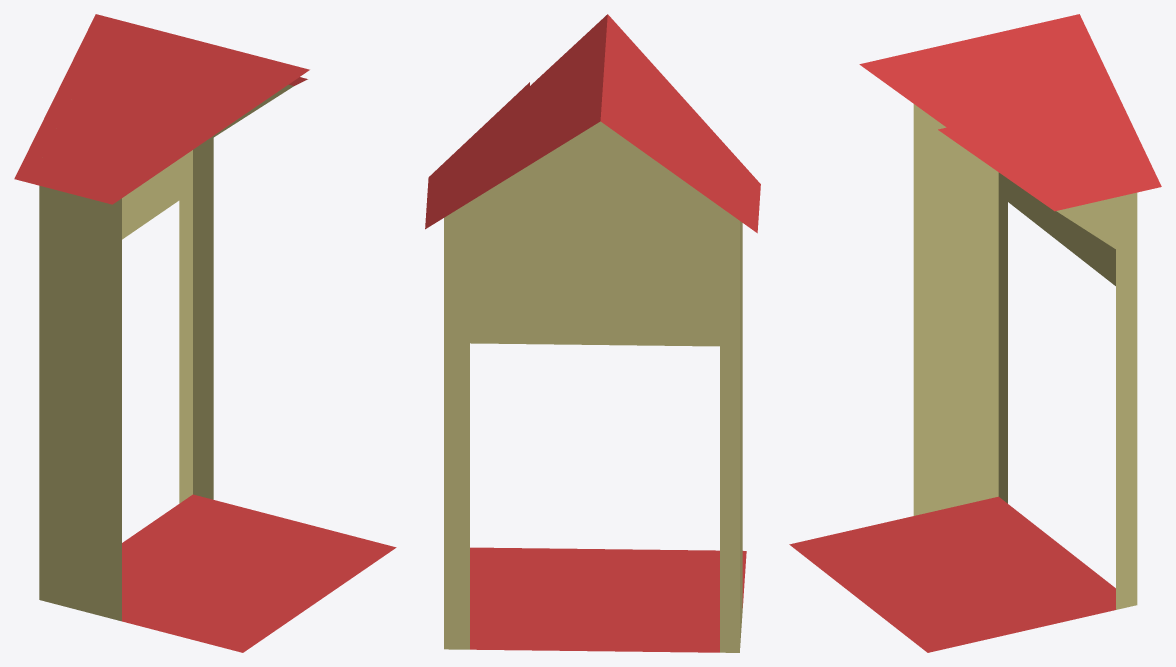
The picture shows the model from 3 angles, left to right: view 1: azimuth 30°, elevation 25°; view 2: azimuth 150°, elevation 25°; view 3: azimuth 270°, elevation 25°; orthographic projection.
Bounding box in the file's own units: 10.93 × 10.32 × 16.19.
